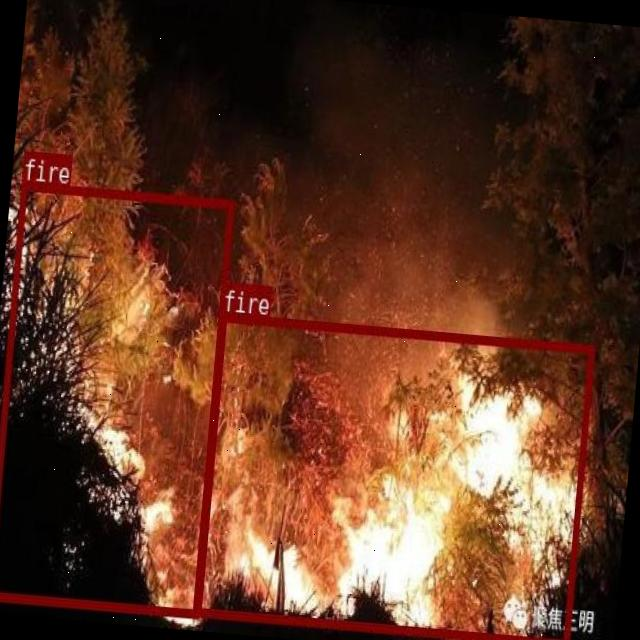fire: (194, 311, 593, 640), (0, 180, 233, 616)
